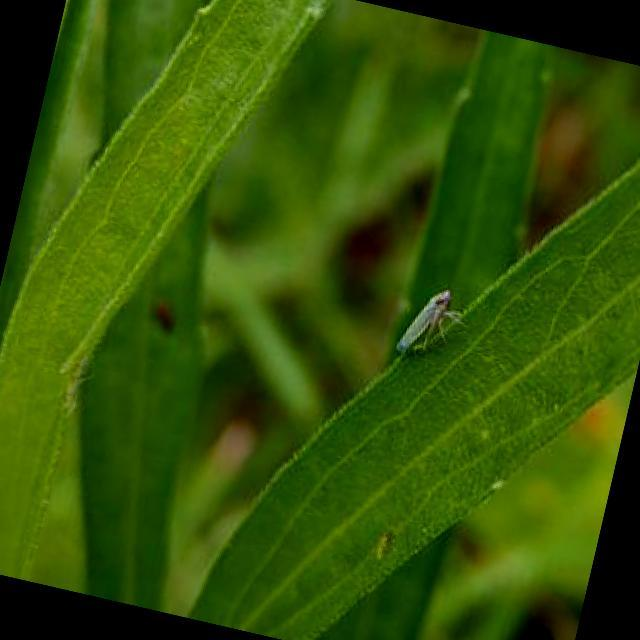green leaf hopper: (396, 290, 460, 354)
